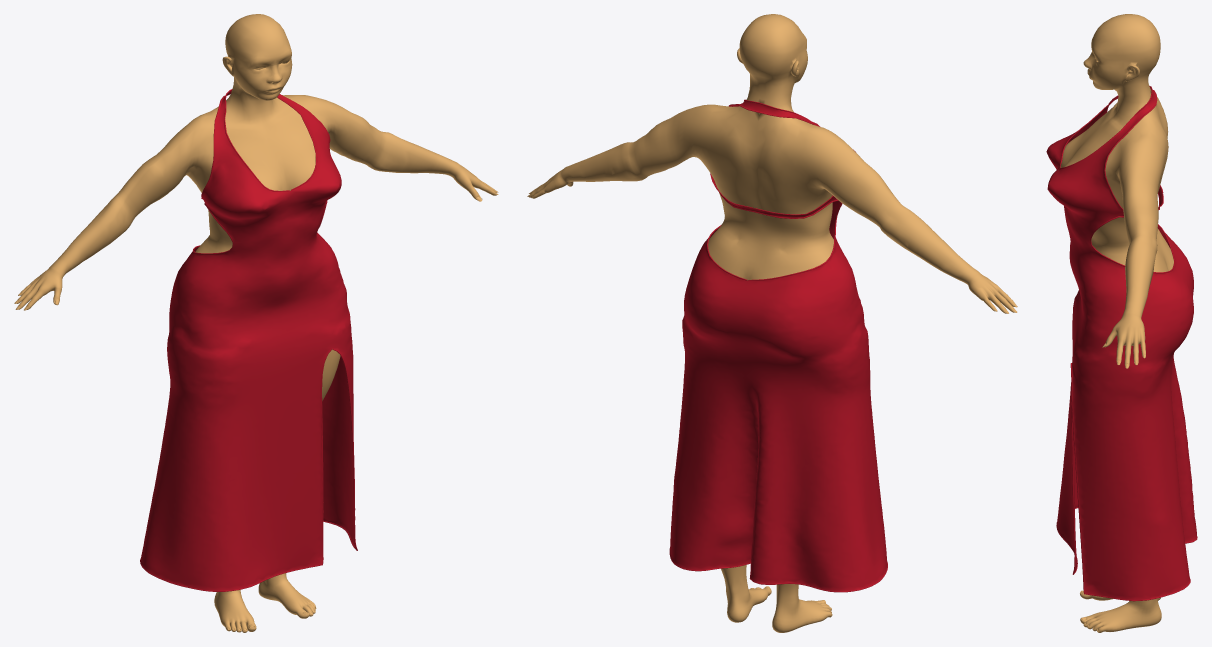
File: dress3.glb
The picture shows the model from 3 angles, left to right: view 1: azimuth 30°, elevation 25°; view 2: azimuth 150°, elevation 25°; view 3: azimuth 270°, elevation 25°; orthographic projection.
Parts seen in each view (by area): view 1: EveningDress, Body; view 2: EveningDress, Body; view 3: EveningDress, Body.
Part boxes in pixels (x1,y1,x2,y2): EveningDress: (140,89,357,591); Body: (17,14,497,632); EveningDress: (669,99,887,592); Body: (529,14,1014,632); EveningDress: (1046,86,1197,601); Body: (1060,14,1173,632).
Size of the model in its own units: 1.58 by 1.85 by 0.4261.
